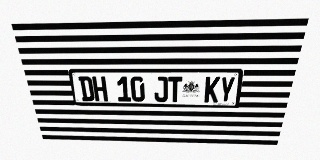0: (130, 76, 145, 102)
1: (116, 76, 131, 102)
D: (78, 76, 95, 101)
H: (92, 76, 108, 101)
J: (154, 76, 168, 102)
K: (204, 77, 220, 102)
T: (168, 76, 182, 102)
Y: (218, 77, 236, 103)
